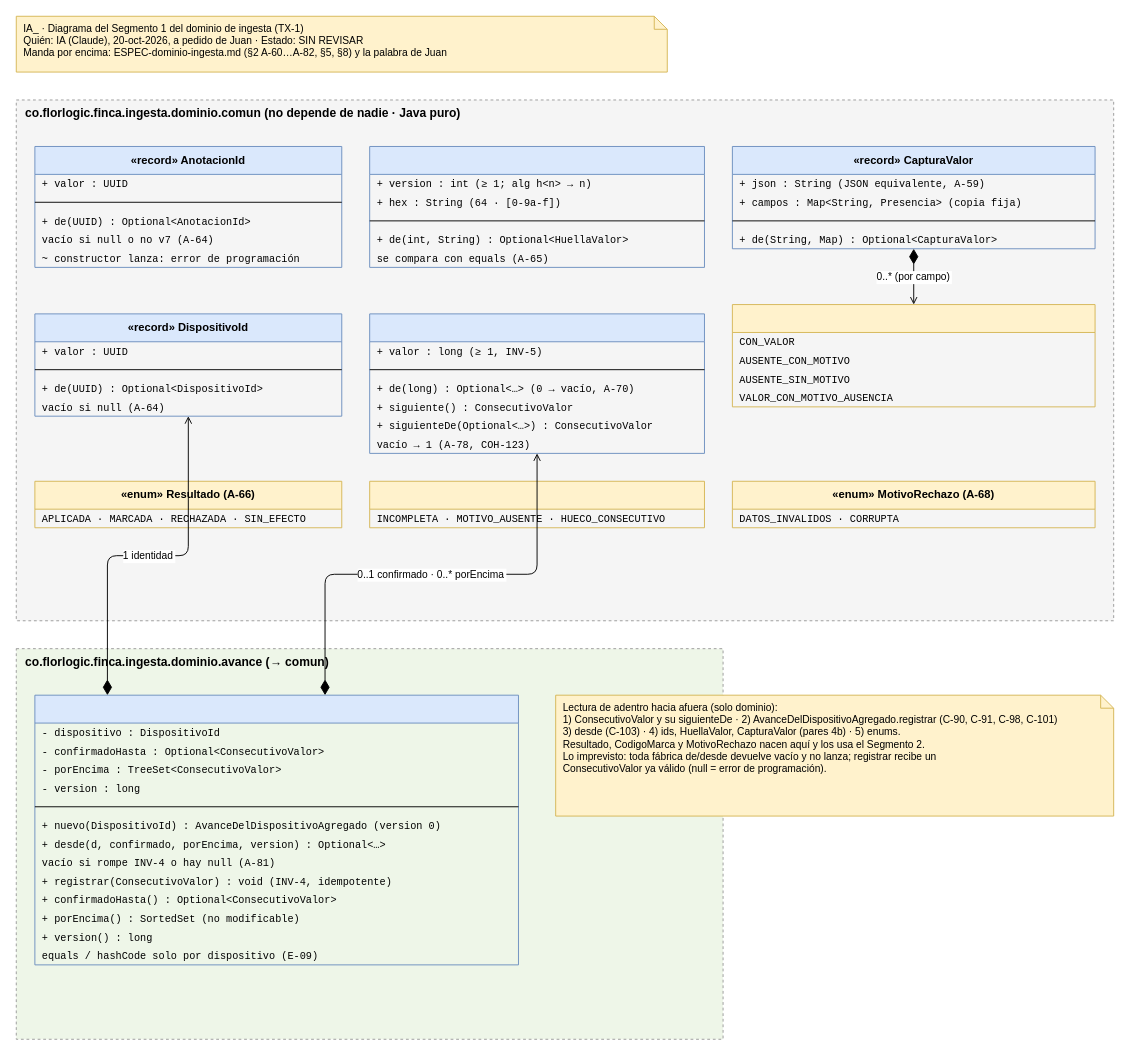
This 1130x1056 diagram has some shape labels left out. Each missing label, with the box of its shape:
«enum» CodigoMarca (A-69, A-71): (369, 480, 704, 528)
«enum» Presencia (A-69): (731, 304, 1095, 407)
«raíz» AvanceDelDispositivoAgregado (final · constructor privado): (34, 694, 518, 965)
«record» ConsecutivoValor implements Comparable: (369, 313, 704, 453)
«record» HuellaValor: (369, 146, 704, 267)
